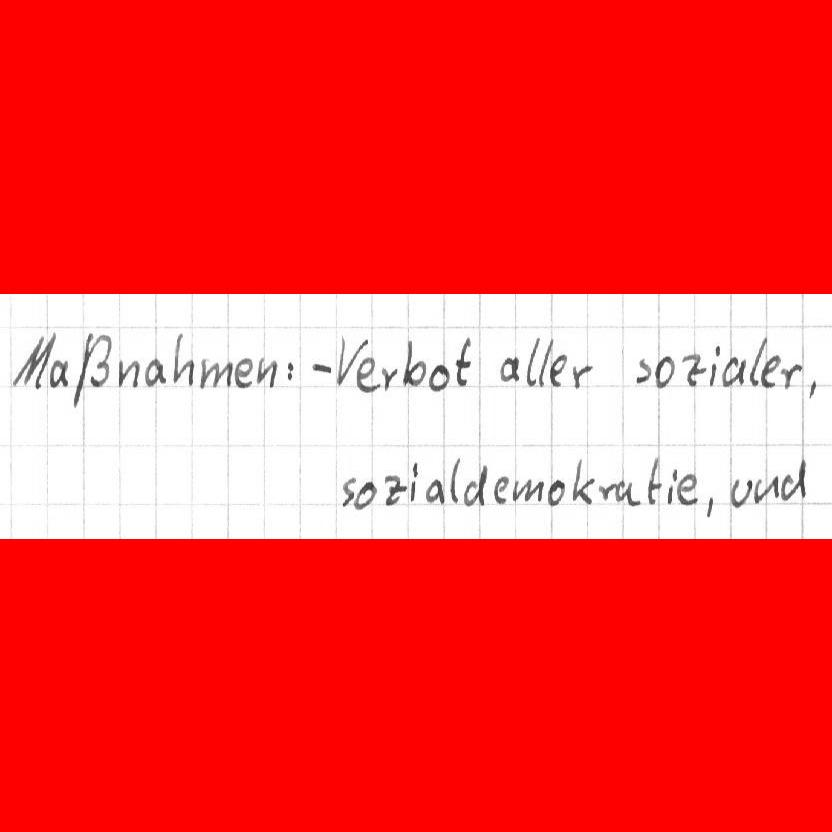Char: (70, 330, 111, 412), (10, 330, 56, 388), (334, 332, 365, 388), (777, 456, 811, 502), (170, 330, 195, 388), (401, 339, 427, 388), (197, 356, 234, 389), (451, 335, 474, 386), (352, 354, 380, 395), (569, 459, 595, 503), (462, 463, 488, 506), (748, 336, 768, 389), (252, 353, 278, 390), (645, 454, 663, 505), (753, 472, 780, 506), (232, 355, 256, 391), (681, 351, 705, 387), (511, 476, 543, 503), (380, 474, 406, 507), (674, 472, 700, 505), (536, 337, 553, 387), (721, 354, 746, 388), (424, 362, 452, 392), (759, 352, 781, 390), (524, 335, 540, 387), (613, 477, 641, 506), (654, 354, 677, 388), (46, 357, 72, 387), (116, 358, 141, 389), (354, 477, 376, 512), (728, 477, 754, 506), (142, 359, 168, 387), (547, 353, 567, 387), (496, 354, 521, 381), (545, 475, 566, 507), (706, 343, 721, 387), (779, 363, 802, 390), (424, 476, 444, 507), (569, 360, 591, 388), (449, 455, 461, 505), (633, 357, 653, 386), (340, 474, 357, 508), (491, 475, 510, 504), (380, 364, 399, 392), (408, 459, 418, 503), (596, 479, 615, 502), (666, 468, 677, 505), (307, 359, 332, 375), (284, 358, 296, 384), (703, 494, 716, 518), (804, 380, 817, 401)
